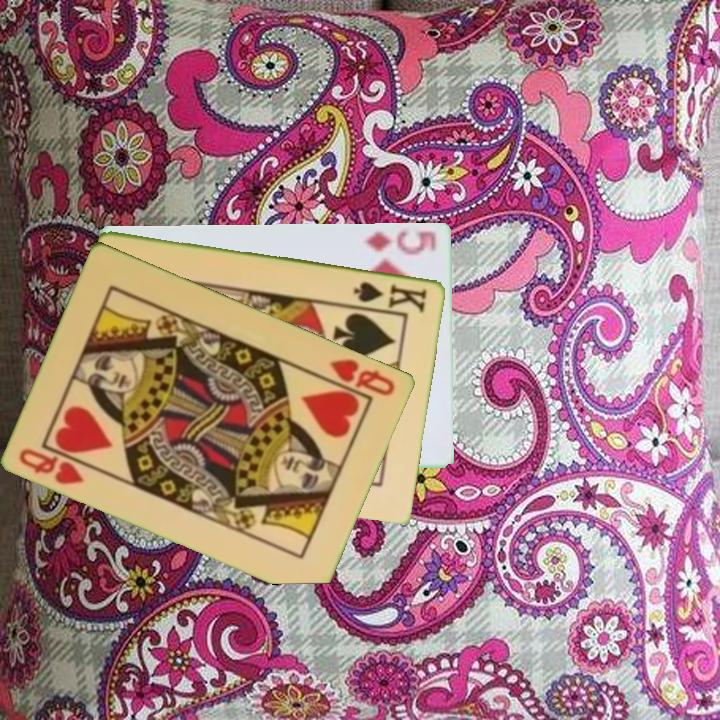5d: (363, 227, 440, 257)
Ks: (351, 277, 430, 315)
Qh: (327, 354, 399, 399), (16, 444, 88, 488)
